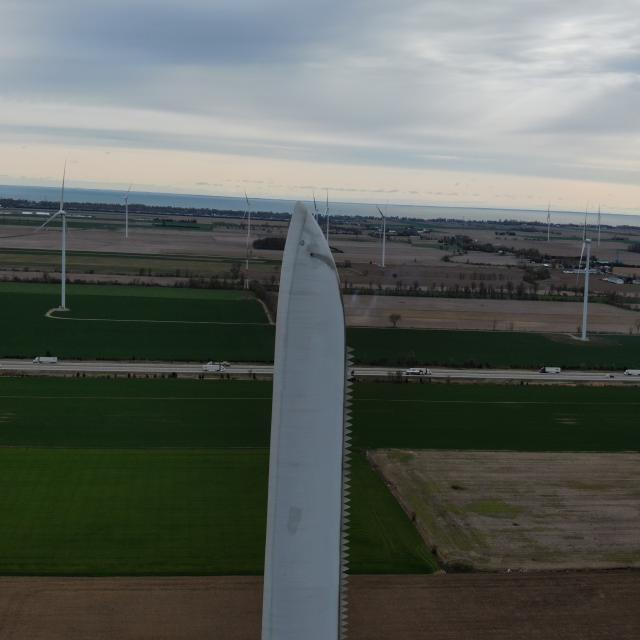damage: (309, 250, 315, 260)
